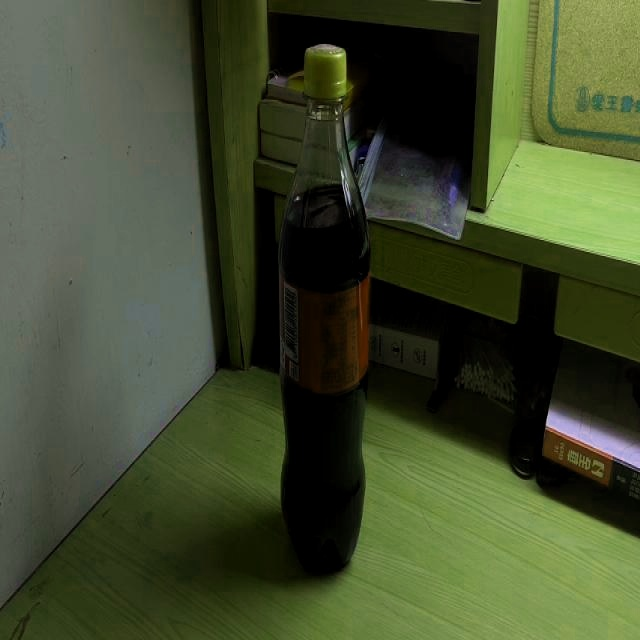Coca-Cola: (282, 46, 369, 566)
